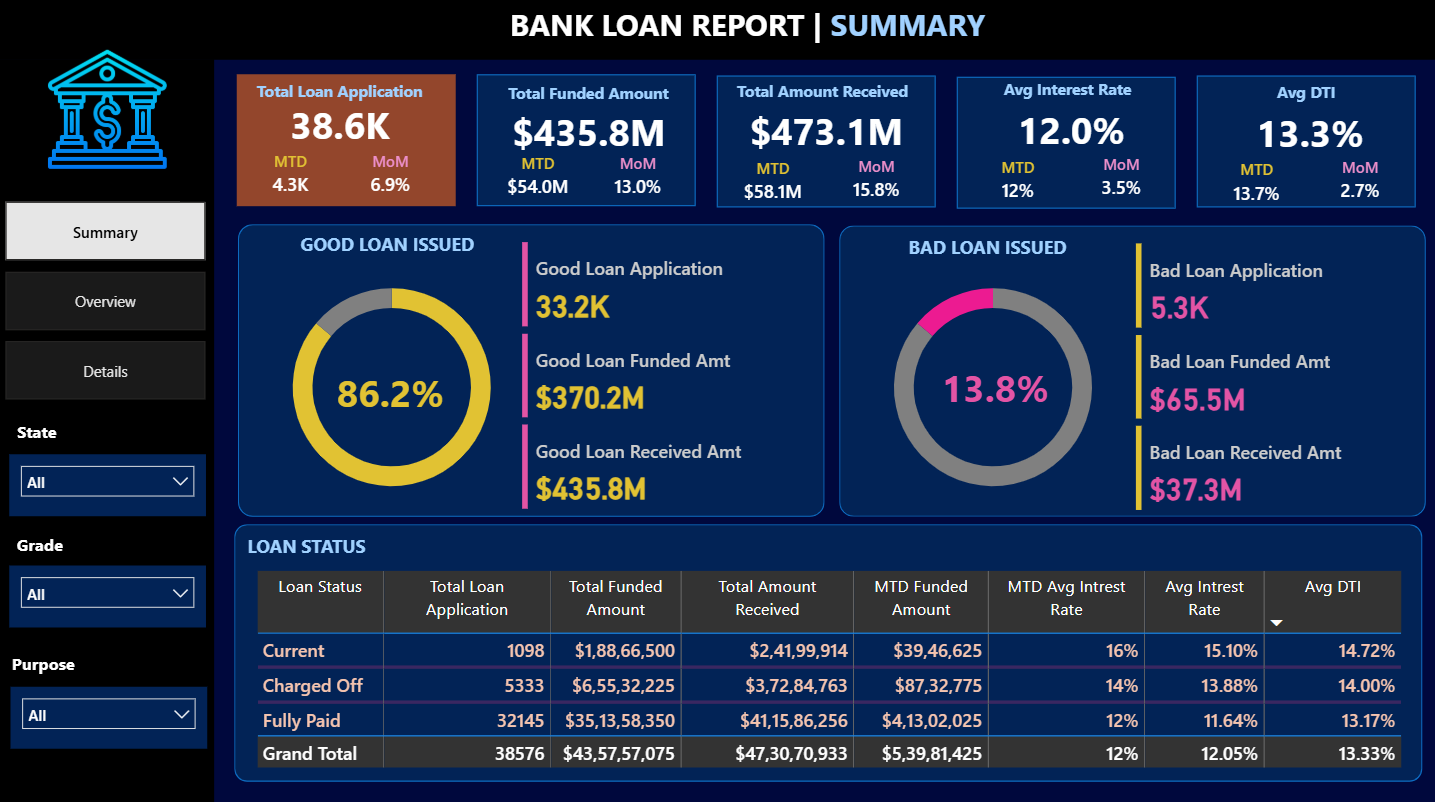

Layout of this report page (visuals, bound fields, positions):
{"tool":"powerbi","page":{"name":"Summary","canvas":[1280,720],"ordinal":0},"visuals":[{"type":"textbox","box":[855,66.2,195,32.5],"z":0,"group":"g9"},{"type":"textbox","box":[163.8,67.5,281.2,32.5],"z":0,"group":"g6"},{"type":"card","fields":{"Values":["Count(Bank Loan.id)"]},"box":[213.4,67.5,182,91.2],"z":0,"group":"g1"},{"type":"textbox","box":[636.2,67.5,195,32.5],"z":0,"group":"g8"},{"type":"textbox","box":[1067.5,68.8,195,32.5],"z":0,"group":"g10"},{"type":"card","fields":{"Values":["Measure Table.Avg Intrest Rate"]},"box":[881.3,69.1,151.2,95],"z":0,"group":"g2"},{"type":"textbox","box":[385,70,281.2,32.5],"z":0,"group":"g7"},{"type":"card","fields":{"Values":["Measure Table.Total Amount Received"]},"box":[662.5,70.4,151.2,95],"z":0,"group":"g3"},{"type":"card","fields":{"Values":["Measure Table.Avg DTI"]},"box":[1093.8,71.7,151.2,95],"z":0,"group":"g4"},{"type":"card","fields":{"Values":["Measure Table.Total Funded Amt"]},"box":[435.6,72.9,182.5,91.2],"z":0,"group":"g5"},{"type":"shape","box":[213.5,201.5,522.4,260.6],"z":0},{"type":"textbox","box":[249.7,202.7,195,32.5],"z":0,"group":"g11"},{"type":"textbox","box":[785.4,206.3,190.6,33.8],"z":0,"group":"g12"},{"type":"textbox","box":[9.7,370.4,49.5,33.8],"z":0,"group":"g14"},{"type":"textbox","box":[0,471.7,74.8,33.8],"z":0,"group":"g15"},{"type":"textbox","box":[197.9,471.7,153.2,33.8],"z":0,"group":"g13"},{"type":"textbox","box":[0,577.9,80.8,35],"z":0,"group":"g16"},{"type":"group","id":"g1","title":"Group 2","box":[213.4,67.5,182,113.8],"z":1000,"group":"g6"},{"type":"group","id":"g2","title":"Group 2","box":[873.2,69.1,160.7,115.7],"z":1000,"group":"g9"},{"type":"group","id":"g3","title":"Group 2","box":[654.4,70.4,160.7,115.7],"z":1000,"group":"g8"},{"type":"group","id":"g4","title":"Group 2","box":[1085.7,71.7,160.7,115.7],"z":1000,"group":"g10"},{"type":"group","id":"g5","title":"Group 2","box":[435.6,72.9,182.5,110.8],"z":1000,"group":"g7"},{"type":"card","title":"MTD","fields":{"Values":["Bank Loan.Total MTD"]},"box":[224.9,135,71.3,46.2],"z":1000,"group":"g1"},{"type":"card","title":"MTD","fields":{"Values":["Measure Table.MTD Funded Amt"]},"box":[446.1,137.5,71.3,46.2],"z":1000,"group":"g5"},{"type":"card","title":"MTD","fields":{"Values":["Measure Table.MTD Avg Intrest Rate"]},"box":[873.2,139.8,71.2,45],"z":1000,"group":"g2"},{"type":"card","title":"MTD","fields":{"Values":["Measure Table.MTD Total Received Amt"]},"box":[654.4,141.1,71.2,45],"z":1000,"group":"g3"},{"type":"card","title":"MTD","fields":{"Values":["Measure Table.MTD Avg DTI"]},"box":[1085.7,142.4,71.2,45],"z":1000,"group":"g4"},{"type":"shape","box":[749.2,202.7,522.4,259.4],"z":1000},{"type":"card","title":"MoM","fields":{"Values":["Measure Table.MOM Loan Application"]},"box":[313.9,135,71.3,46.2],"z":2000,"group":"g1"},{"type":"card","title":"MoM","fields":{"Values":["Measure Table.MoM Funded Amt"]},"box":[535.2,137.5,71.3,46.2],"z":2000,"group":"g5"},{"type":"card","title":"MoM","fields":{"Values":["Measure Table.MoM Avg Intrest Rate"]},"box":[967.6,138.6,66.2,46.2],"z":2000,"group":"g2"},{"type":"card","title":"MoM","fields":{"Values":["Measure Table.MoM Total Received Amt"]},"box":[748.8,139.9,66.2,46.2],"z":2000,"group":"g3"},{"type":"card","title":"MoM","fields":{"Values":["Measure Table.MoM Avg DTI"]},"box":[1180.1,141.2,66.2,46.2],"z":2000,"group":"g4"},{"type":"shape","box":[209.9,468.1,1058,229.2],"z":2000},{"type":"shape","box":[0,0,1280,55],"z":3000},{"type":"card","fields":{"Values":["Measure Table.Bad Loan %"]},"box":[824,312.5,129.1,68.8],"z":4000},{"type":"card","fields":{"Values":["Measure Table.Good Loan %"]},"box":[293.6,317.9,111.5,66.7],"z":5000},{"type":"shape","box":[0,55,192.5,665],"z":6000},{"type":"textbox","box":[451.2,0,696.2,67.5],"z":7000},{"type":"shape","box":[212.5,67.5,195,117.5],"z":8000},{"type":"group","id":"g6","title":"Group 1","box":[163.8,67.5,281.2,113.8],"z":9000},{"type":"shape","box":[426.2,67.5,195,117.5],"z":10000},{"type":"group","id":"g7","title":"Group 1","box":[385,70,281.2,113.8],"z":11000},{"type":"shape","box":[640,68.8,195,117.5],"z":12000},{"type":"group","id":"g8","title":"Group 1","box":[636.2,67.5,195,118.6],"z":13000},{"type":"shape","box":[853.8,70,195,117.5],"z":14000},{"type":"group","id":"g9","title":"Group 1","box":[855,66.2,195,118.8],"z":15000},{"type":"donutChart","fields":{"Category":["Bank Loan.Good V/s Bad Loan"],"Y":["Count(Bank Loan.id)"]},"box":[225.6,231.6,249.7,230.4],"z":16000},{"type":"shape","box":[1067.5,68.8,195,117.5],"z":17000},{"type":"group","id":"g10","title":"Group 1","box":[1067.5,68.8,195,118.8],"z":18000},{"type":"group","id":"g11","title":"Group 1","box":[249.7,202.7,195.4,118.2],"z":19000},{"type":"cardVisual","fields":{"Data":["Measure Table.Good Loan Application","Measure Table.Good Loan Funded Amt","Measure Table.Good Loan Received Amt"]},"box":[462.1,212.3,263,248.5],"z":20000},{"type":"donutChart","fields":{"Category":["Bank Loan.Good V/s Bad Loan"],"Y":["Measure Table.Total Loan Application"]},"box":[761.3,231.6,249.7,230.4],"z":21000},{"type":"group","id":"g12","title":"Group 1","box":[785.4,206.3,190.6,33.8],"z":22000},{"type":"cardVisual","fields":{"Data":["Measure Table.Bad Loan Application","Measure Table.Bad Loan Funded Amt","Measure Table.Bad Loan Received Amt"]},"box":[1008.6,213.5,263,248.5],"z":23000},{"type":"tableEx","fields":{"Values":["Bank Loan.loan_status","Measure Table.Total Loan Application","Measure Table.Total Funded Amt","Measure Table.Total Amount Received","Measure Table.MTD Funded Amt","Measure Table.MTD Avg Intrest Rate","Measure Table.Avg Intrest Rate","Measure Table.Avg DTI"]},"box":[224.4,505.5,1043.6,191.8],"z":24000},{"type":"group","id":"g13","title":"Group 1","box":[197.9,471.7,153.2,33.8],"z":25000},{"type":"slicer","fields":{"Values":["Bank Loan.address_state"]},"box":[9.7,406.6,174.9,55.5],"z":26000},{"type":"group","id":"g14","title":"Group 1","box":[9.7,370.4,49.5,33.8],"z":27000},{"type":"slicer","fields":{"Values":["Bank Loan.grade"]},"box":[9.7,505.5,174.9,55.5],"z":28000},{"type":"group","id":"g15","title":"Group 1","box":[0,471.7,74.8,33.8],"z":29000},{"type":"slicer","fields":{"Values":["Bank Loan.purpose"]},"box":[10.9,612.9,174.9,55.5],"z":30000},{"type":"group","id":"g16","title":"Group 1","box":[0,577.9,80.8,35],"z":31000},{"type":"image","box":[28.8,37.5,137.5,122.5],"z":32000},{"type":"pageNavigator","box":[6.2,181.2,178.8,178.8],"z":33000}]}

Visuals, with their boxes in screenshot pixels (x1, y1, x2, y2), scaled from the page's 1280x720 canvas onto the 1435x802 screenshot:
textbox: select_region(959, 74, 1177, 110)
textbox: select_region(184, 75, 499, 111)
card - Count(Bank Loan.id): select_region(239, 75, 443, 177)
textbox: select_region(713, 75, 932, 111)
textbox: select_region(1197, 77, 1415, 113)
card - Measure Table.Avg Intrest Rate: select_region(988, 77, 1158, 183)
textbox: select_region(432, 78, 747, 114)
card - Measure Table.Total Amount Received: select_region(743, 78, 912, 184)
card - Measure Table.Avg DTI: select_region(1226, 80, 1396, 186)
card - Measure Table.Total Funded Amt: select_region(488, 81, 693, 183)
shape: select_region(239, 224, 825, 515)
textbox: select_region(280, 226, 499, 262)
textbox: select_region(881, 230, 1094, 267)
textbox: select_region(11, 413, 66, 450)
textbox: select_region(0, 525, 84, 563)
textbox: select_region(222, 525, 394, 563)
textbox: select_region(0, 644, 91, 683)
"Group 2" group: select_region(239, 75, 443, 202)
"Group 2" group: select_region(979, 77, 1159, 206)
"Group 2" group: select_region(734, 78, 914, 207)
"Group 2" group: select_region(1217, 80, 1397, 209)
"Group 2" group: select_region(488, 81, 693, 205)
"MTD" card: select_region(252, 150, 332, 202)
"MTD" card: select_region(500, 153, 580, 205)
"MTD" card: select_region(979, 156, 1059, 206)
"MTD" card: select_region(734, 157, 813, 207)
"MTD" card: select_region(1217, 159, 1297, 209)
shape: select_region(840, 226, 1426, 515)
"MoM" card: select_region(352, 150, 432, 202)
"MoM" card: select_region(600, 153, 680, 205)
"MoM" card: select_region(1085, 154, 1159, 206)
"MoM" card: select_region(839, 156, 914, 207)
"MoM" card: select_region(1323, 157, 1397, 209)
shape: select_region(235, 521, 1421, 777)
shape: select_region(0, 0, 1434, 61)
card - Measure Table.Bad Loan %: select_region(924, 348, 1069, 425)
card - Measure Table.Good Loan %: select_region(329, 354, 454, 428)
shape: select_region(0, 61, 216, 801)
textbox: select_region(506, 0, 1286, 75)
shape: select_region(238, 75, 457, 206)
"Group 1" group: select_region(184, 75, 499, 202)
shape: select_region(478, 75, 696, 206)
"Group 1" group: select_region(432, 78, 747, 205)
shape: select_region(718, 77, 936, 208)
"Group 1" group: select_region(713, 75, 932, 207)
shape: select_region(957, 78, 1176, 209)
"Group 1" group: select_region(959, 74, 1177, 206)
donutChart - Bank Loan.Good V/s Bad Loan x Count(Bank Loan.id): select_region(253, 258, 533, 515)
shape: select_region(1197, 77, 1415, 208)
"Group 1" group: select_region(1197, 77, 1415, 209)
"Group 1" group: select_region(280, 226, 499, 357)
cardVisual - Measure Table.Good Loan Application x Measure Table.Good Loan Funded Amt: select_region(518, 236, 813, 513)
donutChart - Bank Loan.Good V/s Bad Loan x Measure Table.Total Loan Application: select_region(853, 258, 1133, 515)
"Group 1" group: select_region(881, 230, 1094, 267)
cardVisual - Measure Table.Bad Loan Application x Measure Table.Bad Loan Funded Amt: select_region(1131, 238, 1426, 515)
tableEx - Bank Loan.loan_status x Measure Table.Total Loan Application: select_region(252, 563, 1422, 777)
"Group 1" group: select_region(222, 525, 394, 563)
slicer - Bank Loan.address_state: select_region(11, 453, 207, 515)
"Group 1" group: select_region(11, 413, 66, 450)
slicer - Bank Loan.grade: select_region(11, 563, 207, 625)
"Group 1" group: select_region(0, 525, 84, 563)
slicer - Bank Loan.purpose: select_region(12, 683, 208, 745)
"Group 1" group: select_region(0, 644, 91, 683)
image: select_region(32, 42, 186, 178)
pageNavigator: select_region(7, 202, 207, 401)
